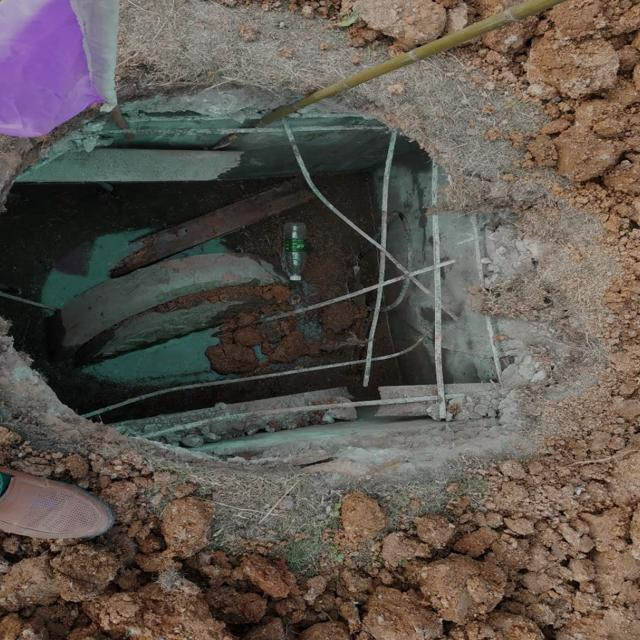lose: (0, 74, 613, 470)
